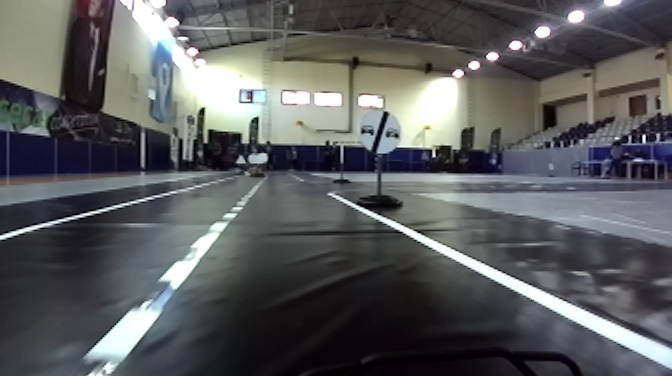sollama_serbest: (358, 108, 399, 155)
